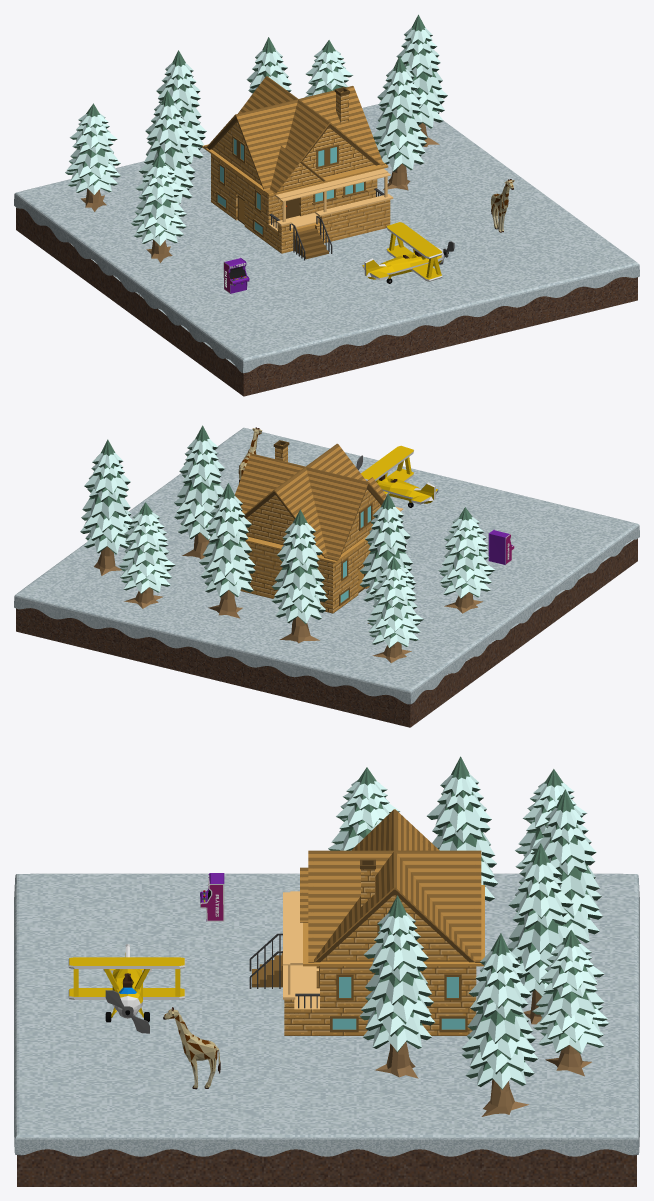
The picture shows the model from 3 angles, top to bottom: view 1: azimuth 30°, elevation 25°; view 2: azimuth 150°, elevation 25°; view 3: azimuth 270°, elevation 25°; orthographic projection. The views are drawn at different scales.
Parts seen in each view (by area): view 1: Cube.003, Cube.508, VEHICLES_AIRPLANE, OBJRANDOM_ARCADE, ANIMAL_JIRAFA; view 2: Cube.003, Cube.508, VEHICLES_AIRPLANE, OBJRANDOM_ARCADE; view 3: Cube.003, Cube.508, VEHICLES_AIRPLANE, ANIMAL_JIRAFA, OBJRANDOM_ARCADE.
Boxes of the visible parts, box(x1,y1,x2,y2) form: Cube.003: box(14, 14, 639, 396); Cube.508: box(202, 76, 393, 260); VEHICLES_AIRPLANE: box(362, 222, 454, 283); OBJRANDOM_ARCADE: box(223, 257, 249, 293); ANIMAL_JIRAFA: box(491, 179, 514, 232); Cube.003: box(14, 425, 639, 727); Cube.508: box(235, 440, 405, 613); VEHICLES_AIRPLANE: box(356, 445, 438, 507); OBJRANDOM_ARCADE: box(488, 529, 514, 564); Cube.003: box(14, 756, 639, 1186); Cube.508: box(249, 809, 484, 1035); VEHICLES_AIRPLANE: box(68, 944, 185, 1033); ANIMAL_JIRAFA: box(163, 1007, 220, 1089); OBJRANDOM_ARCADE: box(200, 873, 224, 921).
Bounding box in the file's own units: 4040 × 1695 × 4040.
43 materials, 4 textured.
